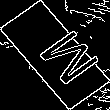M_SW: (18, 21, 92, 89)
